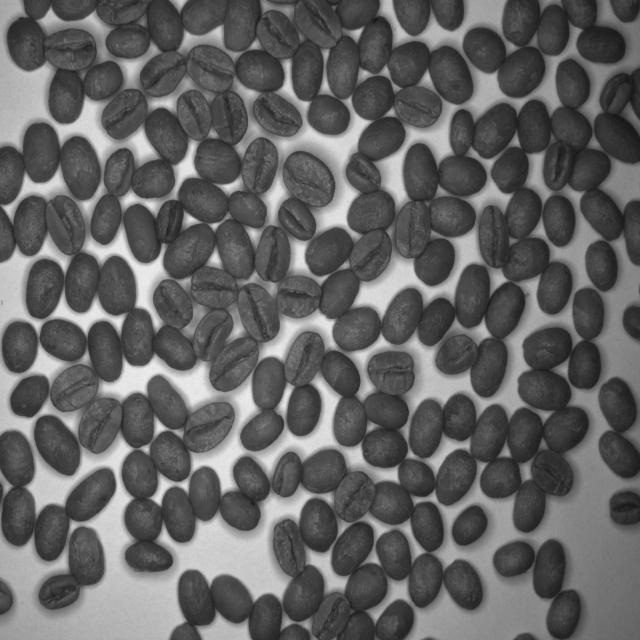good: (74, 313, 125, 385), (59, 464, 119, 524), (246, 83, 305, 142), (282, 144, 336, 208), (17, 256, 71, 320), (148, 486, 202, 550), (160, 220, 218, 279), (457, 405, 511, 468), (274, 258, 324, 326), (27, 416, 85, 474), (464, 332, 512, 402), (178, 398, 238, 454), (61, 524, 112, 589), (588, 365, 636, 434), (447, 252, 490, 329), (590, 105, 640, 171), (320, 22, 361, 102), (551, 49, 598, 118), (130, 43, 184, 103), (140, 374, 190, 438), (284, 329, 332, 395), (90, 83, 150, 135), (253, 209, 292, 289), (576, 181, 624, 246), (534, 528, 574, 606), (25, 496, 70, 565), (235, 278, 282, 344), (596, 421, 640, 491), (17, 118, 62, 186), (346, 225, 396, 286), (255, 1, 304, 63), (148, 274, 200, 332), (431, 40, 476, 106), (248, 348, 293, 414), (211, 218, 258, 281), (509, 365, 573, 411), (401, 140, 444, 208), (170, 565, 217, 627), (334, 462, 378, 528), (578, 18, 636, 68), (144, 429, 193, 488), (66, 250, 106, 322), (77, 393, 122, 457), (518, 318, 570, 373), (144, 106, 192, 165), (305, 219, 353, 278), (383, 277, 424, 346), (304, 588, 358, 640), (468, 98, 514, 159), (188, 140, 244, 190), (460, 22, 510, 78), (565, 142, 615, 198), (540, 404, 597, 453), (102, 254, 144, 320), (436, 449, 482, 509), (233, 45, 286, 97), (348, 119, 412, 162), (365, 349, 426, 394), (540, 188, 584, 250), (484, 280, 528, 342), (496, 235, 554, 282), (290, 34, 330, 102), (328, 517, 374, 576), (434, 147, 485, 200), (53, 365, 103, 419), (530, 448, 579, 503), (212, 337, 260, 393), (150, 322, 198, 378), (37, 314, 93, 362), (48, 196, 92, 257), (117, 532, 178, 576), (118, 199, 161, 261), (180, 177, 231, 229), (303, 85, 353, 138), (393, 78, 446, 128), (172, 87, 216, 147), (0, 486, 44, 546), (446, 547, 482, 620), (510, 94, 553, 155), (424, 196, 481, 242), (495, 48, 547, 98), (318, 348, 368, 400), (183, 43, 236, 92), (42, 30, 101, 74), (329, 302, 384, 349), (189, 267, 245, 313), (502, 181, 544, 242), (568, 332, 608, 396), (407, 397, 447, 461), (410, 239, 459, 291), (346, 188, 399, 236), (341, 558, 388, 612), (63, 137, 102, 202), (394, 197, 434, 260), (414, 290, 454, 353), (214, 567, 256, 627), (479, 202, 516, 270), (537, 254, 574, 322), (211, 88, 252, 148), (314, 262, 357, 319), (481, 447, 524, 504), (266, 520, 309, 577), (299, 445, 348, 495), (368, 472, 414, 525), (191, 306, 233, 364), (281, 562, 323, 620), (404, 495, 445, 554), (7, 369, 56, 418), (117, 390, 155, 453), (378, 523, 416, 586), (218, 0, 264, 52), (350, 69, 395, 122), (30, 571, 88, 612), (218, 482, 262, 536), (10, 192, 48, 254), (286, 380, 324, 442), (4, 18, 46, 74), (386, 33, 428, 89), (388, 451, 437, 499), (502, 403, 545, 457), (361, 386, 415, 429), (532, 134, 572, 192), (333, 392, 372, 451), (105, 20, 155, 66), (545, 107, 595, 153), (582, 230, 620, 290), (534, 5, 577, 58), (358, 16, 393, 81), (408, 547, 441, 615), (246, 135, 281, 199), (123, 310, 163, 366), (48, 67, 84, 129), (510, 480, 549, 537), (298, 495, 337, 552), (451, 503, 497, 551), (565, 284, 604, 340), (0, 317, 38, 374), (290, 2, 338, 47), (120, 448, 162, 499), (499, 0, 540, 51), (145, 1, 183, 56), (0, 431, 38, 486), (237, 410, 284, 454), (373, 592, 416, 640), (189, 464, 222, 526), (230, 452, 270, 503), (126, 160, 178, 199), (276, 195, 320, 241), (494, 534, 536, 582), (439, 392, 476, 446), (119, 498, 162, 544), (272, 444, 306, 502), (245, 585, 280, 640), (365, 428, 408, 471), (591, 72, 633, 116), (541, 583, 573, 640), (339, 152, 382, 194), (431, 336, 480, 372), (232, 188, 272, 232), (88, 196, 126, 242), (80, 59, 123, 99), (151, 194, 186, 242), (492, 147, 530, 190), (448, 102, 475, 156), (610, 486, 640, 527)
